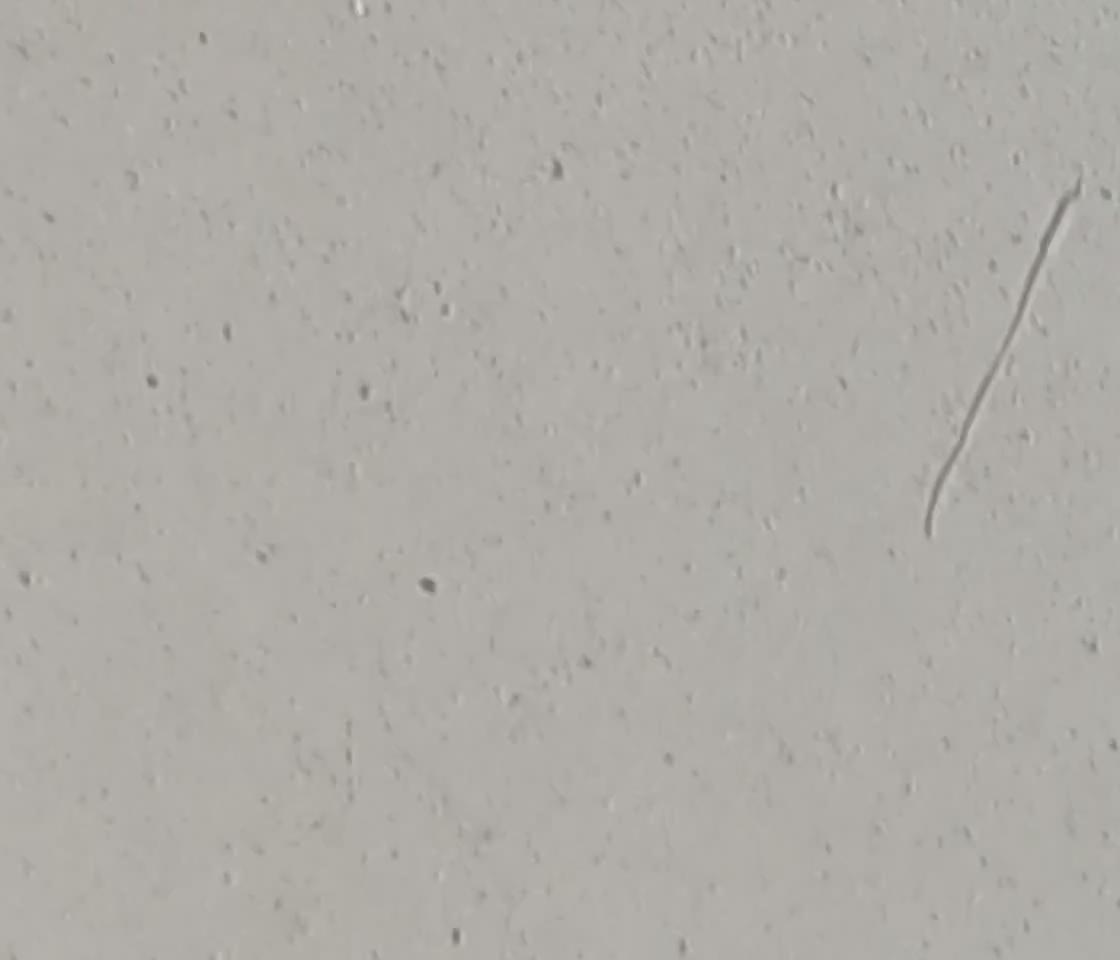scratch: (918, 178, 1084, 547)
